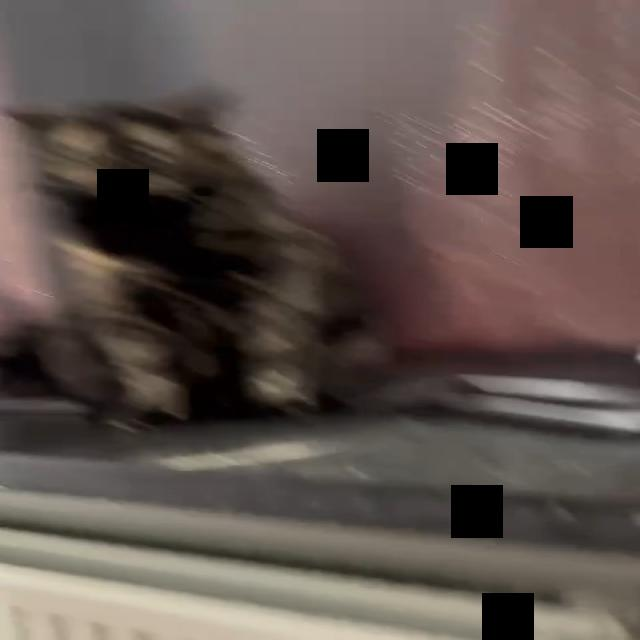authorized: (3, 98, 392, 433)
